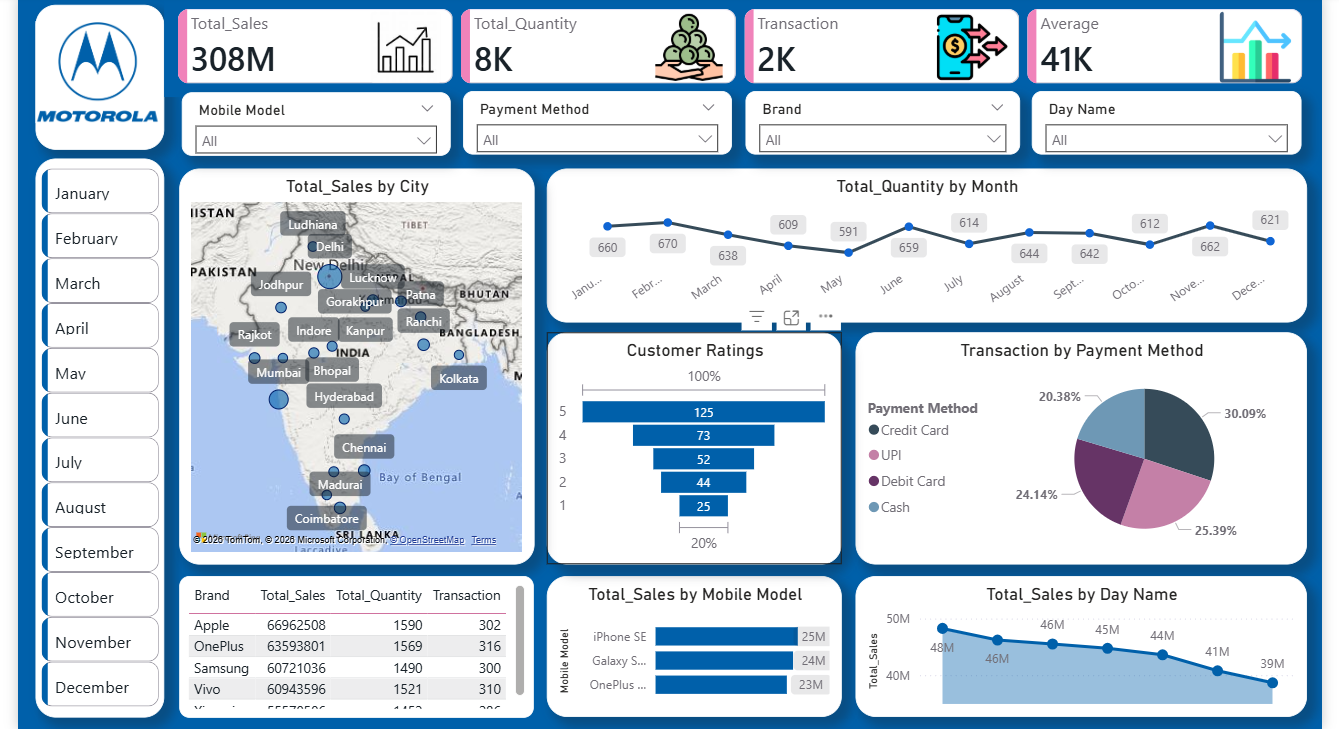

This screenshot's page, from the dashboard's own definition file:
{"tool":"powerbi","page":{"name":"Page 1","canvas":[1280,720],"ordinal":0},"visuals":[{"type":"shape","box":[17.2,8.6,126.4,142.3],"z":0},{"type":"image","box":[17.2,13.5,121.5,122.7],"z":1000},{"type":"shape","box":[17.2,159.5,126.4,548.5],"z":2000},{"type":"advancedSlicerVisual","fields":{"Values":["Sales_Data.Date.Variation.Date Hierarchy.Month"]},"box":[18.4,169.3,125.2,539.9],"z":3000},{"type":"cardVisual","fields":{"Data":["Sales_Data.Total_Sales","Sales_Data.Total_Quantity","Sales_Data.Transaction","Sales_Data.Average"]},"box":[138.7,0,1141.1,108],"z":4000},{"type":"lineChart","fields":{"Y":["Sales_Data.Total_Quantity"],"Category":["Sales_Data.Date.Variation.Date Hierarchy.Month","Sales_Data.Date.Variation.Date Hierarchy.Day"]},"box":[519,169.3,746,150.9],"z":5000},{"type":"clusteredBarChart","fields":{"Category":["Sales_Data.Mobile Model"],"Y":["Sales_Data.Total_Sales"]},"box":[518.9,569,289.9,138.2],"z":6000},{"type":"pieChart","fields":{"Category":["Sales_Data.Payment Method"],"Y":["Sales_Data.Transaction"]},"box":[822.4,330.6,443,227.6],"z":7000},{"type":"funnel","title":"Customer Ratings","fields":{"Category":["Sales_Data.Customer Ratings"],"Y":["CountNonNull(Sales_Data.Customer Ratings)"]},"box":[518.9,330.6,289.9,227.6],"z":8000},{"type":"map","fields":{"Category":["Sales_Data.City"],"Size":["Sales_Data.Total_Sales"]},"box":[158.3,169.3,348.5,389],"z":9000},{"type":"areaChart","fields":{"Category":["Sales_Data.Day Name"],"Y":["Sales_Data.Total_Sales"]},"box":[822.4,569,443,138.2],"z":10000},{"type":"tableEx","fields":{"Values":["Sales_Data.Brand","Sales_Data.Total_Sales","Sales_Data.Total_Quantity","Sales_Data.Transaction"]},"box":[158.5,569,348.2,139.5],"z":11000},{"type":"slicer","fields":{"Values":["Sales_Data.Mobile Model"]},"box":[160.7,94.5,263.8,62.6],"z":12000},{"type":"slicer","fields":{"Values":["Sales_Data.Payment Method"]},"box":[436.8,93.3,263.8,62.6],"z":13000},{"type":"slicer","fields":{"Values":["Sales_Data.Brand"]},"box":[714.1,93.3,269.9,62.6],"z":14000},{"type":"slicer","fields":{"Values":["Sales_Data.Day Name"]},"box":[995.1,93.3,265,62.6],"z":15000}]}

Visuals, with their boxes in screenshot pixels (x1, y1, x2, y2):
shape: x1=32 y1=0 x2=163 y2=139
image: x1=32 y1=0 x2=157 y2=124
shape: x1=32 y1=148 x2=163 y2=715
advancedSlicerVisual - Sales_Data.Date.Variation.Date Hierarchy.Month: x1=33 y1=158 x2=163 y2=717
cardVisual - Sales_Data.Total_Sales x Sales_Data.Total_Quantity: x1=157 y1=0 x2=1338 y2=94
lineChart - Sales_Data.Total_Quantity x Sales_Data.Date.Variation.Date Hierarchy.Month: x1=551 y1=158 x2=1323 y2=314
clusteredBarChart - Sales_Data.Mobile Model x Sales_Data.Total_Sales: x1=551 y1=571 x2=851 y2=714
pieChart - Sales_Data.Payment Method x Sales_Data.Transaction: x1=865 y1=325 x2=1323 y2=560
"Customer Ratings" funnel: x1=551 y1=325 x2=851 y2=560
map - Sales_Data.City x Sales_Data.Total_Sales: x1=178 y1=158 x2=538 y2=560
areaChart - Sales_Data.Day Name x Sales_Data.Total_Sales: x1=865 y1=571 x2=1323 y2=714
tableEx - Sales_Data.Brand x Sales_Data.Total_Sales: x1=178 y1=571 x2=538 y2=716
slicer - Sales_Data.Mobile Model: x1=180 y1=80 x2=453 y2=145
slicer - Sales_Data.Payment Method: x1=466 y1=79 x2=739 y2=144
slicer - Sales_Data.Brand: x1=753 y1=79 x2=1032 y2=144
slicer - Sales_Data.Day Name: x1=1044 y1=79 x2=1318 y2=144
